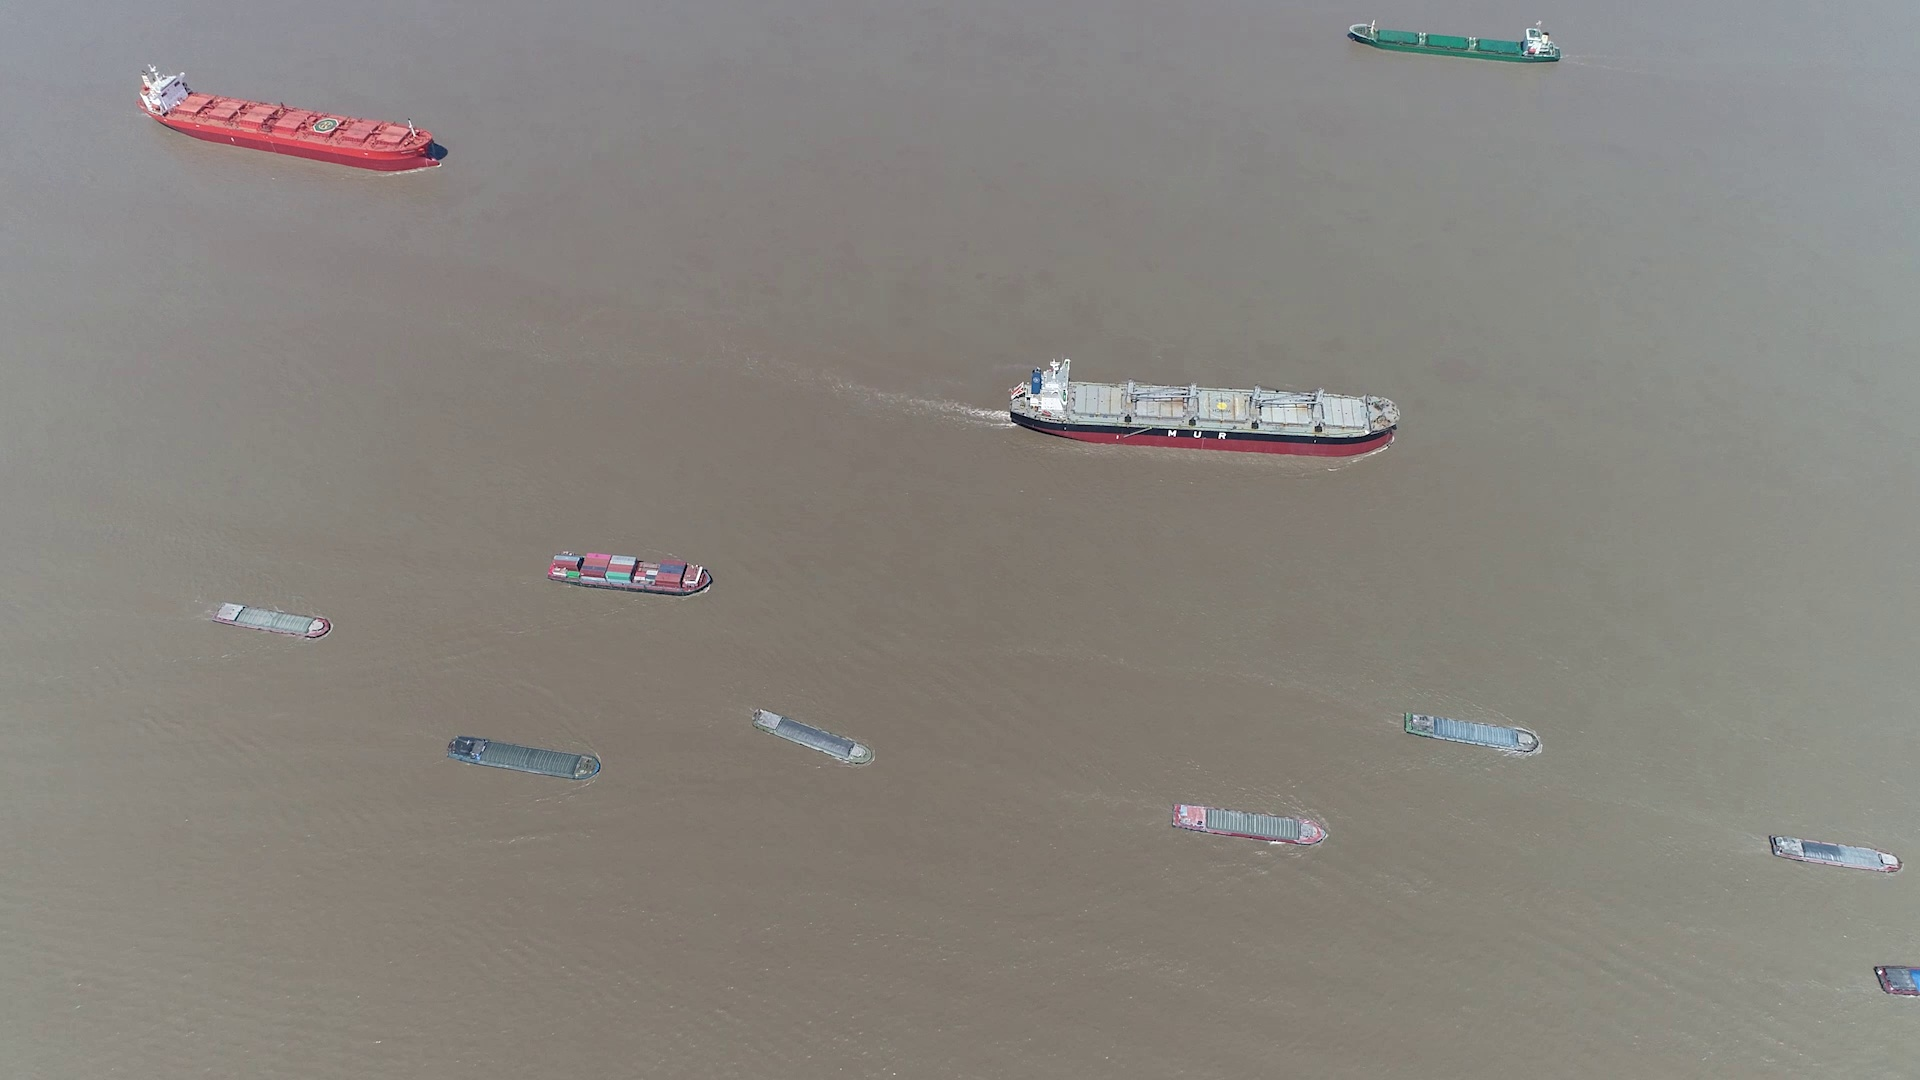ship: (1009, 363, 1396, 459), (141, 63, 444, 169), (1346, 22, 1559, 63), (546, 551, 715, 597), (448, 735, 605, 782), (753, 708, 873, 767), (1174, 804, 1325, 847), (1404, 713, 1543, 754), (1770, 835, 1902, 874), (212, 599, 330, 640), (1876, 965, 1920, 997)
